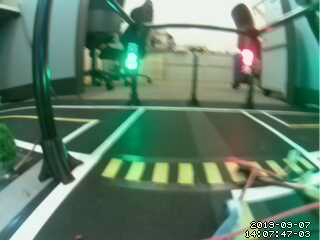Left_Right_sign: (184, 44, 212, 57)
Traffic_light_green: (125, 42, 137, 73)
Traffic_light_red: (240, 51, 258, 71)
